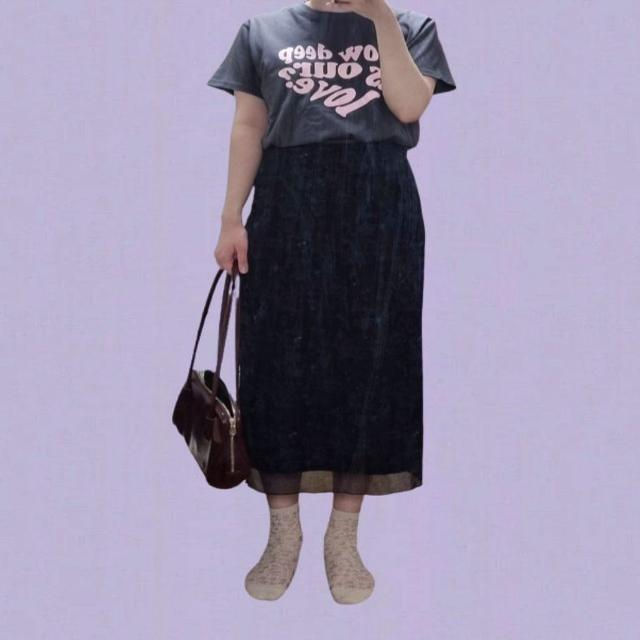shortsleeve: (210, 2, 458, 149)
skirt: (236, 137, 425, 498)
